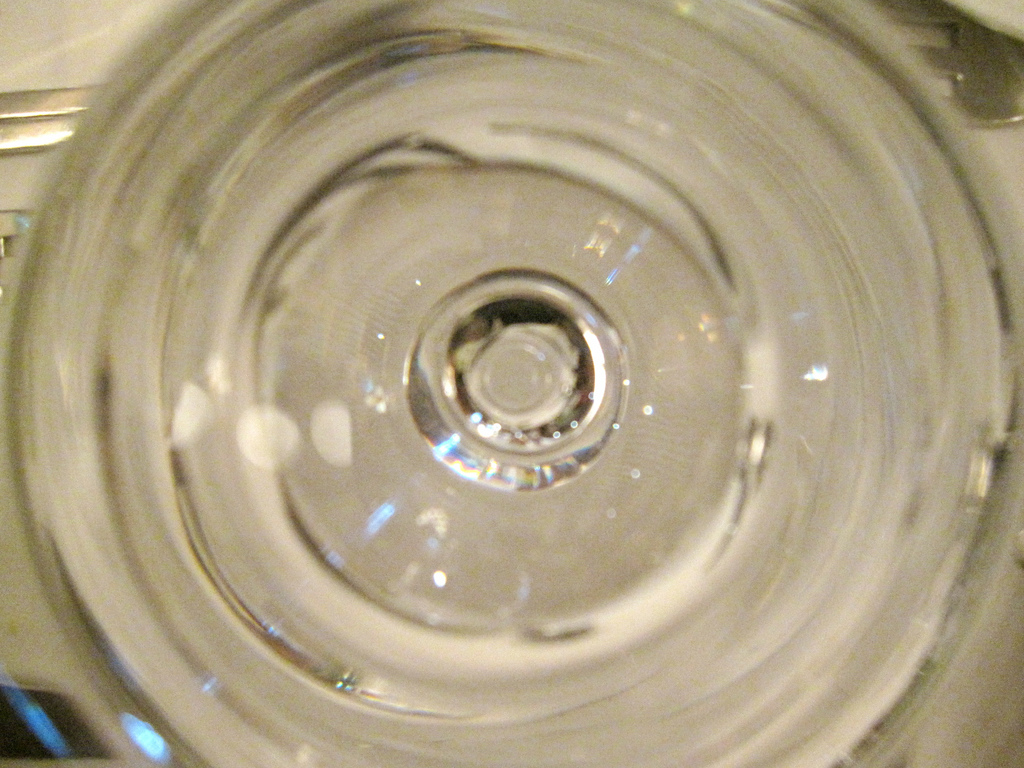glass of water: (145, 63, 925, 768)
